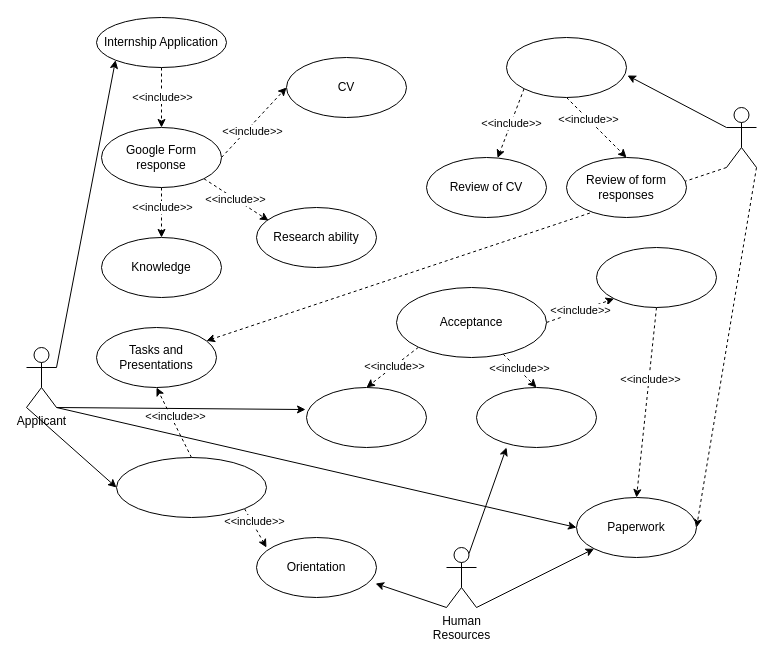
Image size: 782x661. Some labels were removed from this diagram. The shapes that lost their labels are listed below. From the top down, each one's box as (x1, y1, x2, y2) in pixels, then its label:
(506, 36, 626, 98): Evaluation
(726, 106, 756, 168): Manager
(596, 246, 716, 308): Internship Approval
(306, 386, 426, 448): Applicant feedback
(476, 386, 596, 448): Internship acceptance feedback
(116, 456, 266, 518): Internship
